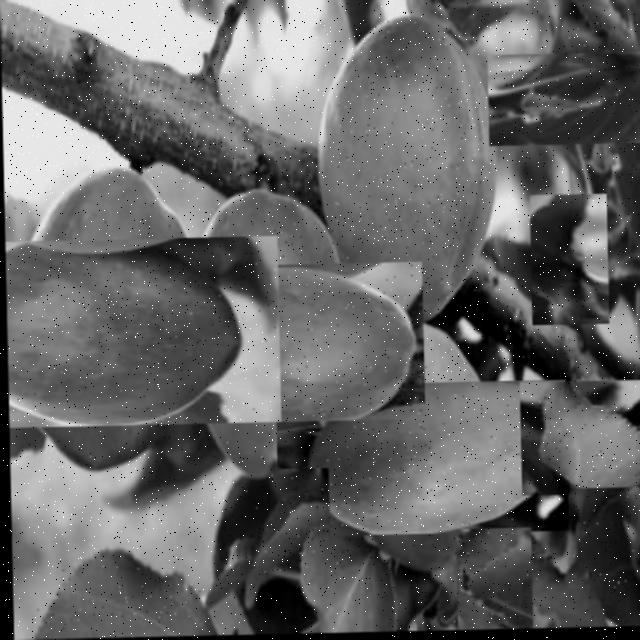Apricot: (3, 196, 240, 469), (137, 222, 382, 468), (308, 347, 532, 573), (328, 16, 487, 315)
Leaf: (518, 23, 640, 179), (521, 379, 640, 501), (28, 565, 204, 640), (515, 208, 621, 315), (240, 470, 328, 578), (567, 490, 640, 620), (441, 542, 543, 632)
